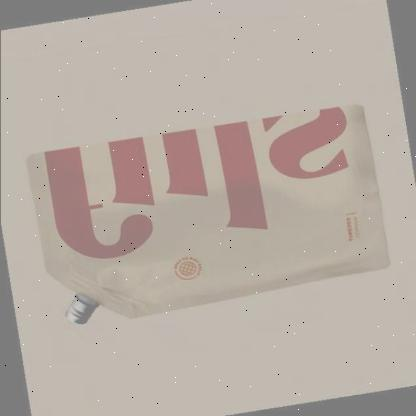Others: (24, 102, 392, 328)
